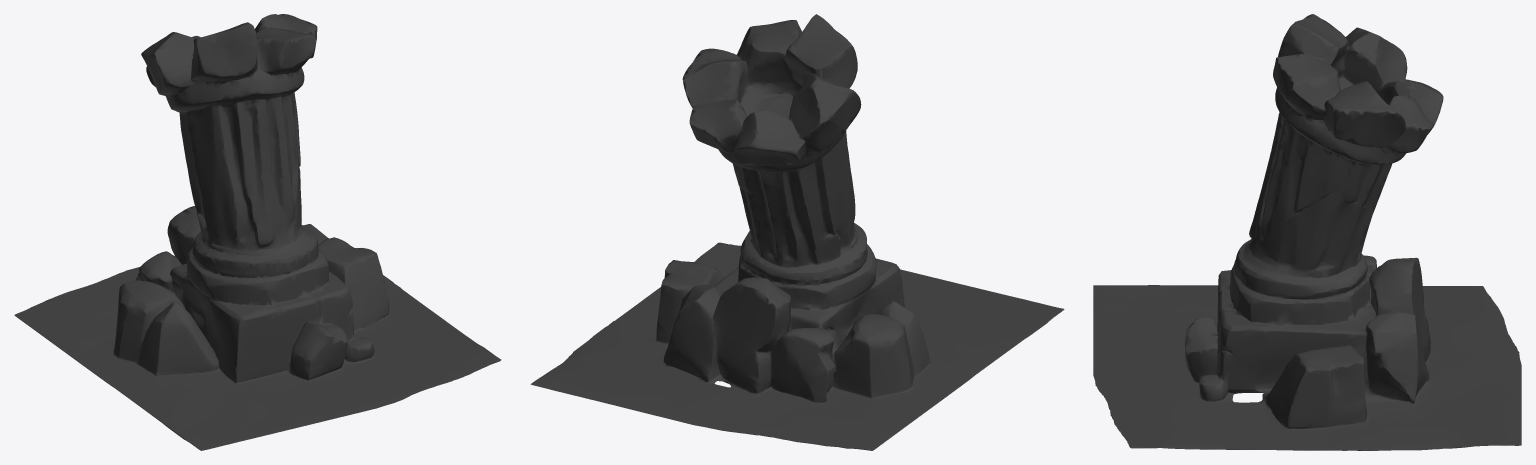
The model's file is pr_columna_rota.glb.
3 renders of one model, left to right at view 1: azimuth 30°, elevation 25°; view 2: azimuth 150°, elevation 25°; view 3: azimuth 270°, elevation 25°, orthographic. The views are drawn at different scales.
Parts seen in each view (by area): view 1: geometry_0; view 2: geometry_0; view 3: geometry_0.
Boxes of the visible parts, left/top/right/bottom form: geometry_0: left=14, top=14, right=501, bottom=450; geometry_0: left=530, top=14, right=1064, bottom=450; geometry_0: left=1093, top=14, right=1521, bottom=450.
Size of the model in its own units: 1.01 by 0.9875 by 1.12.
Materials: 1 (1 with a texture image).
